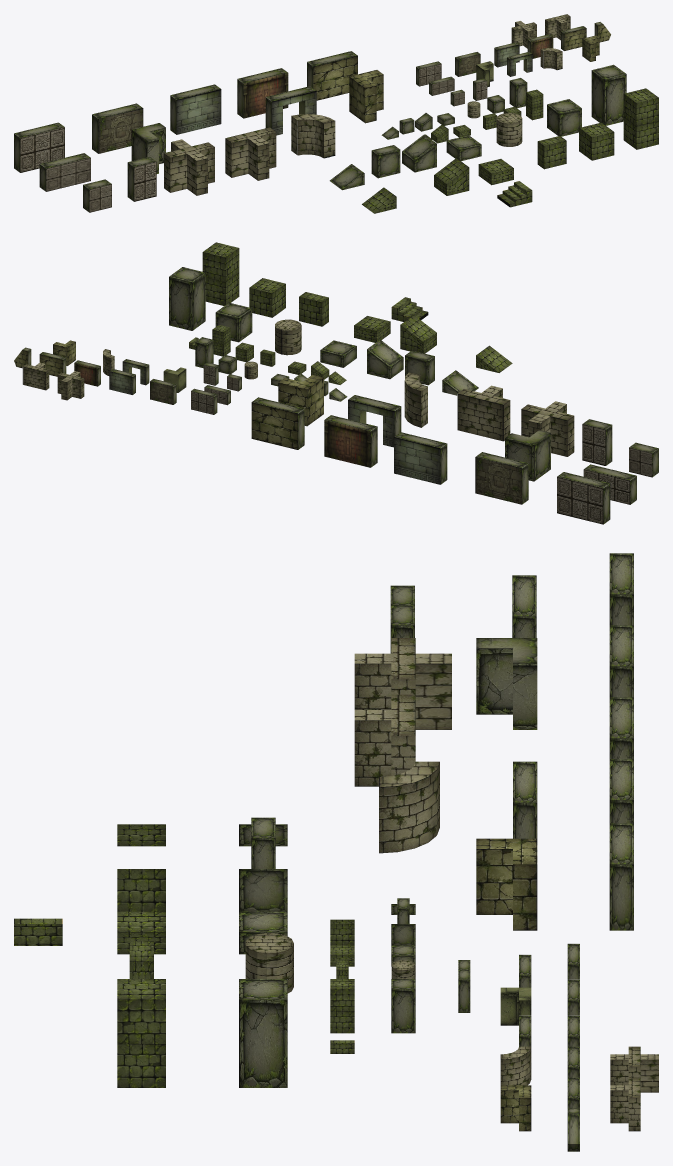
Rendered from TilesIndy3.glb.
3 renders of one model, top to bottom at view 1: azimuth 30°, elevation 25°; view 2: azimuth 150°, elevation 25°; view 3: azimuth 270°, elevation 25°, orthographic. The views are drawn at different scales.
Parts seen in each view (by area): view 1: Cube.045, Cube.044, Cube.035, Cube.032, basestones04, Cube.034, basecube02, Cube.037, Plane.001, Cube.036, Cube.039, Cube.031 (+31 smaller); view 2: Cube.044, Cube.035, Cube.032, Cube.034, Cube.036, Cube.037, basecube02, basestones04, Cube.045, Cube.038, Cube.039, Cube.041 (+26 smaller); view 3: Cube.045, basecube02, basestones04, Cube.039, Cube.038, Plane.001, Cube.044, Cube.037, tower01, basepente02, pentestones02, Cube.041 (+19 smaller).
Part boxes in pixels (x1=…): Cube.045: x1=164, y1=139, x2=214, y2=195; Cube.044: x1=225, y1=127, x2=276, y2=180; Cube.035: x1=170, y1=84, x2=221, y2=134; Cube.032: x1=14, y1=122, x2=64, y2=172; basestones04: x1=623, y1=88, x2=658, y2=149; Cube.034: x1=92, y1=103, x2=143, y2=153; basecube02: x1=591, y1=64, x2=626, y2=125; Cube.037: x1=307, y1=51, x2=357, y2=100; Plane.001: x1=291, y1=114, x2=335, y2=158; Cube.036: x1=237, y1=68, x2=288, y2=118; Cube.039: x1=349, y1=70, x2=383, y2=123; Cube.031: x1=39, y1=153, x2=90, y2=191; Cube.044: x1=457, y1=385, x2=510, y2=441; Cube.035: x1=394, y1=432, x2=447, y2=484; Cube.032: x1=557, y1=472, x2=610, y2=524; Cube.034: x1=475, y1=452, x2=528, y2=504; Cube.036: x1=324, y1=415, x2=377, y2=467; Cube.037: x1=251, y1=397, x2=304, y2=449; basecube02: x1=169, y1=267, x2=205, y2=330; basestones04: x1=202, y1=242, x2=239, y2=305; Cube.045: x1=521, y1=401, x2=574, y2=456; Cube.038: x1=505, y1=430, x2=550, y2=481; Cube.039: x1=278, y1=374, x2=323, y2=426; Cube.041: x1=348, y1=395, x2=401, y2=447; Cube.045: x1=354, y1=638, x2=451, y2=729; basecube02: x1=239, y1=979, x2=287, y2=1087; basestones04: x1=117, y1=979, x2=165, y2=1087; Cube.039: x1=476, y1=838, x2=537, y2=930; Cube.038: x1=476, y1=638, x2=537, y2=729; Plane.001: x1=379, y1=761, x2=439, y2=853; Cube.044: x1=354, y1=694, x2=415, y2=786; Cube.037: x1=609, y1=823, x2=633, y2=930; tower01: x1=245, y1=933, x2=293, y2=993; basepente02: x1=239, y1=869, x2=287, y2=911; pentestones02: x1=117, y1=869, x2=165, y2=911; Cube.041: x1=513, y1=761, x2=537, y2=838.
Size of the model in its own units: 104 by 8 by 53.
1 material, 1 textured.
